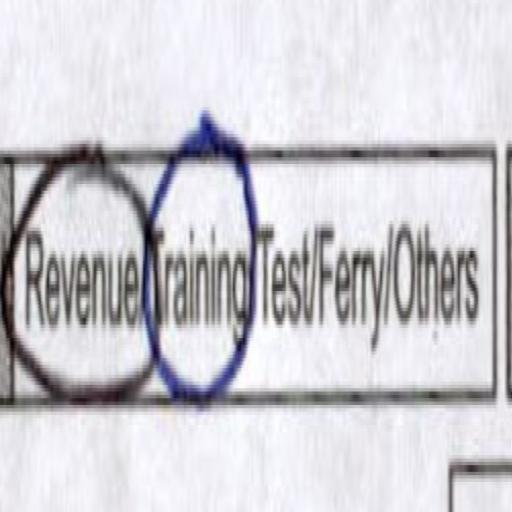check: (12, 90, 146, 478), (145, 52, 255, 472)
